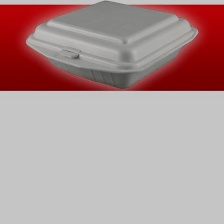foam_box: (23, 0, 202, 90)
